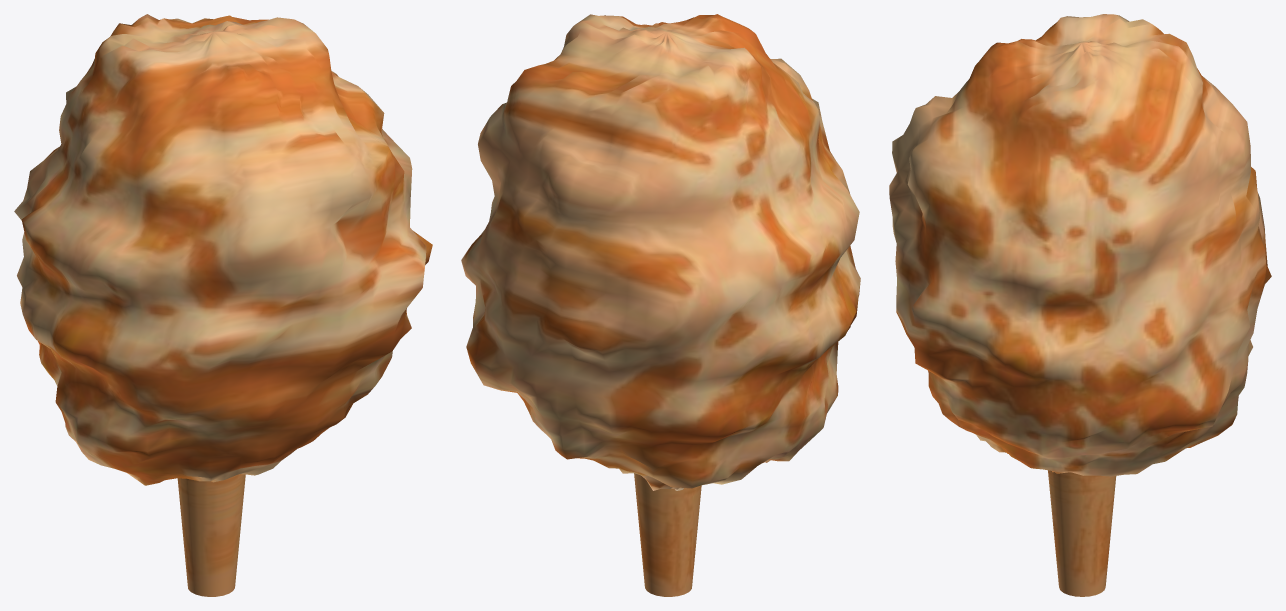
Rendered from ArbolN2.fbx.
The picture shows the model from 3 angles, left to right: view 1: azimuth 30°, elevation 25°; view 2: azimuth 150°, elevation 25°; view 3: azimuth 270°, elevation 25°; orthographic projection.
Parts seen in each view (by area): view 1: boom_007; view 2: boom_007; view 3: boom_007.
Boxes of the visible parts, bbox=[...] form: boom_007: bbox=[14, 14, 432, 596]; boom_007: bbox=[461, 14, 860, 596]; boom_007: bbox=[889, 14, 1271, 596].
Bounding box in the file's own units: 35.1 × 52.22 × 33.19.
Materials: 1 (1 with a texture image).
